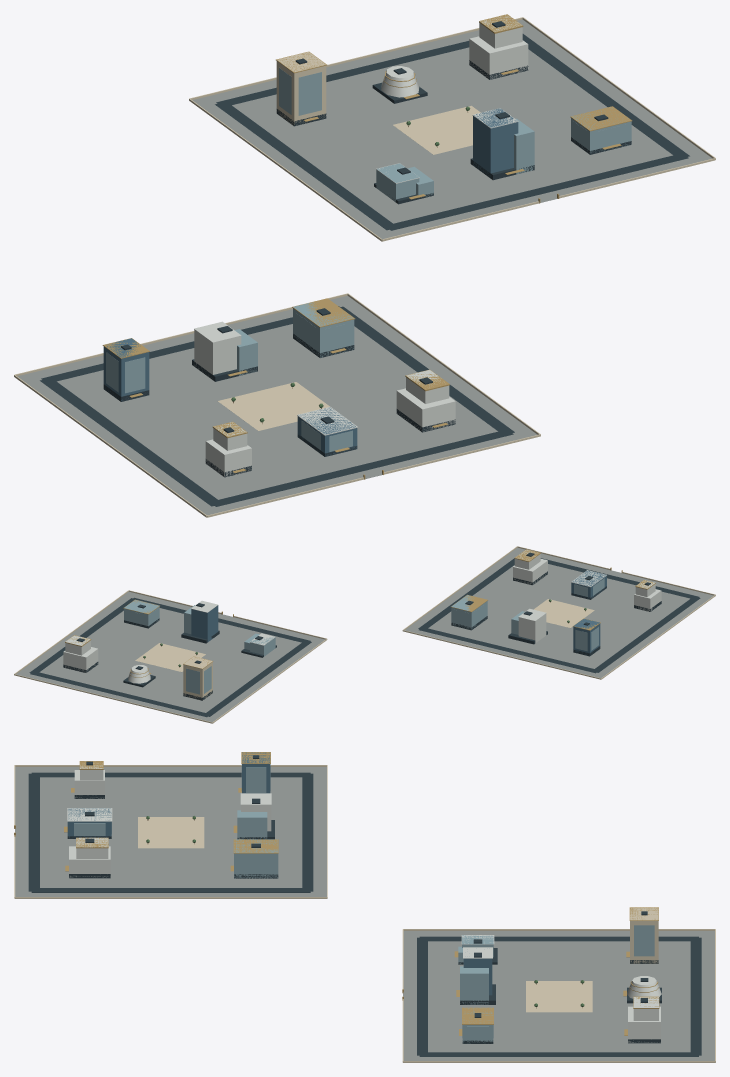
Rendered from GC-TILE-04-03.glb.
The picture shows the model from 3 angles, top to bottom: view 1: azimuth 30°, elevation 25°; view 2: azimuth 150°, elevation 25°; view 3: azimuth 270°, elevation 25°; orthographic projection. The views are drawn at different scales.
Visible parts, largest first — view 1: GC-TILE-04-03-paving, GC-TILE-04-03-dark, GC-TILE-04-03-ivory, GC-TILE-04-03-white, GC-TILE-04-03-glass, GC-TILE-04-03-blue, GC-TILE-04-03-gold; view 2: GC-TILE-04-03-paving, GC-TILE-04-03-dark, GC-TILE-04-03-ivory, GC-TILE-04-03-white, GC-TILE-04-03-glass, GC-TILE-04-03-blue, GC-TILE-04-03-gold; view 3: GC-TILE-04-03-paving, GC-TILE-04-03-dark, GC-TILE-04-03-ivory, GC-TILE-04-03-glass, GC-TILE-04-03-white, GC-TILE-04-03-gold, GC-TILE-04-03-blue.
Boxes of the visible parts, box(x1,y1,x2,y2) form: GC-TILE-04-03-paving: box(17, 19, 712, 515); GC-TILE-04-03-dark: box(40, 21, 689, 506); GC-TILE-04-03-ivory: box(14, 17, 715, 517); GC-TILE-04-03-white: box(194, 15, 528, 476); GC-TILE-04-03-glass: box(106, 68, 631, 451); GC-TILE-04-03-blue: box(103, 108, 518, 456); GC-TILE-04-03-gold: box(102, 14, 632, 479); GC-TILE-04-03-paving: box(16, 547, 713, 722); GC-TILE-04-03-dark: box(29, 552, 700, 717); GC-TILE-04-03-ivory: box(14, 546, 715, 723); GC-TILE-04-03-white: box(63, 549, 661, 683); GC-TILE-04-03-glass: box(124, 578, 604, 694); GC-TILE-04-03-blue: box(191, 570, 606, 655); GC-TILE-04-03-gold: box(65, 549, 655, 677); GC-TILE-04-03-paving: box(15, 767, 714, 1060); GC-TILE-04-03-dark: box(28, 755, 701, 1056); GC-TILE-04-03-ivory: box(14, 765, 715, 1062); GC-TILE-04-03-glass: box(74, 764, 654, 1043); GC-TILE-04-03-white: box(67, 761, 661, 1042); GC-TILE-04-03-gold: box(14, 752, 659, 1035); GC-TILE-04-03-blue: box(67, 752, 492, 995).
Bounding box in the file's own units: 759 × 53.71 × 760.
